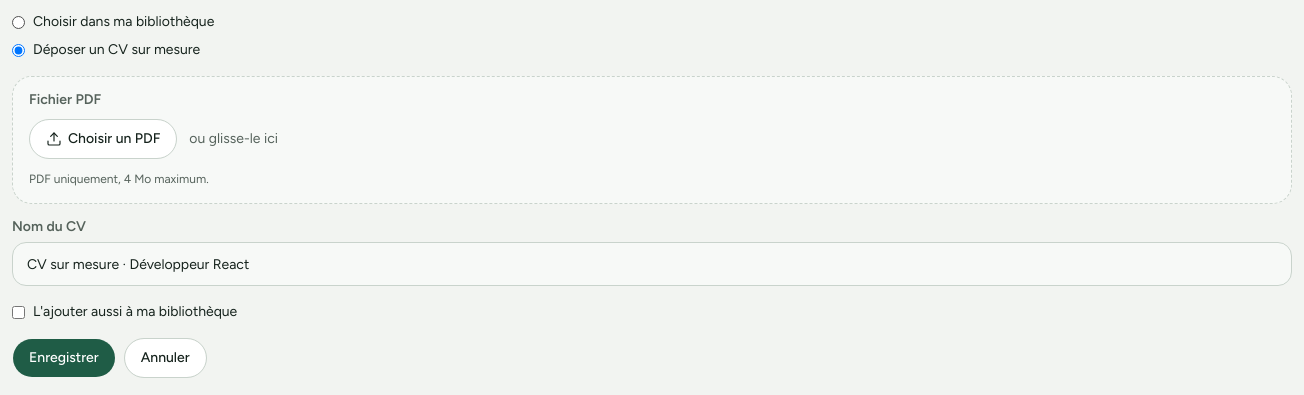
it: SentCvEditForm › shows the empty library hint when the library has no cv
Click the radio button labelled "Choisir dans ma bibliothèque".
click(18, 22)  # box [12,16,25,28]
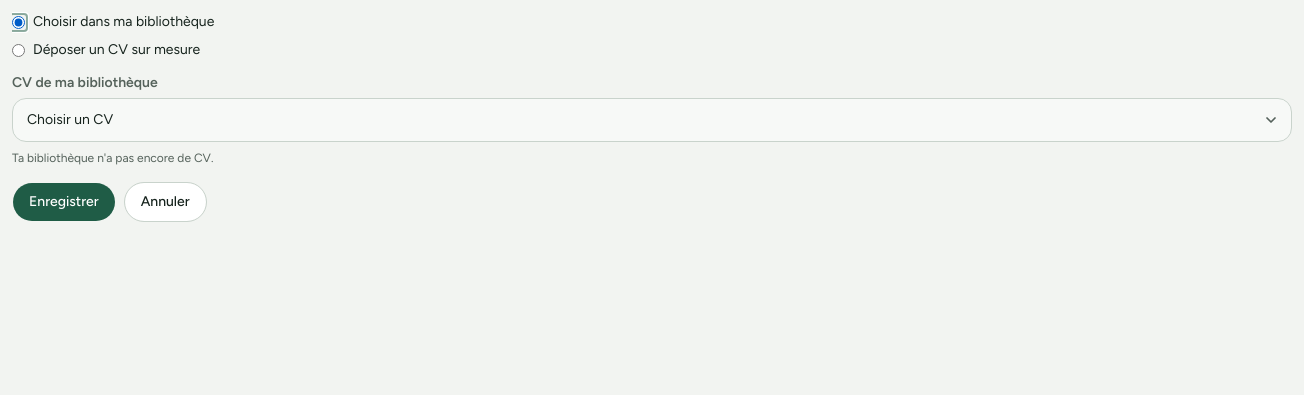
Expected: the text "Ta bibliothèque n'a pas encore de CV." is shown, [12,151,213,165]
